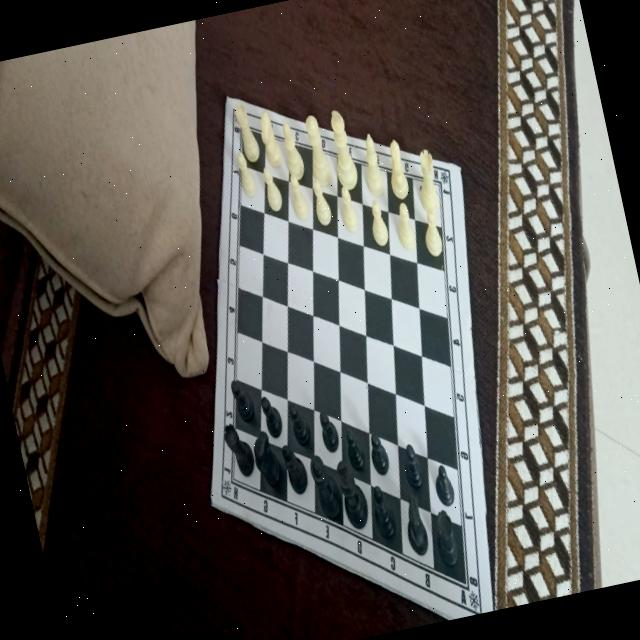corners: (450, 156, 470, 188), (203, 486, 222, 514), (219, 87, 237, 109)
